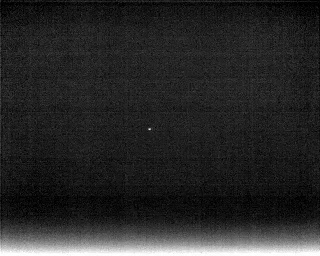AIRPLANE: (146, 125, 153, 133)
